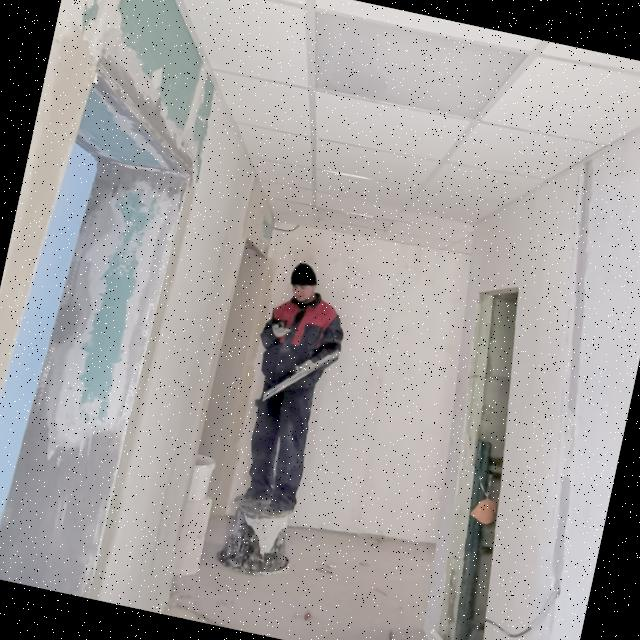NoHelmet: (285, 261, 325, 305)
